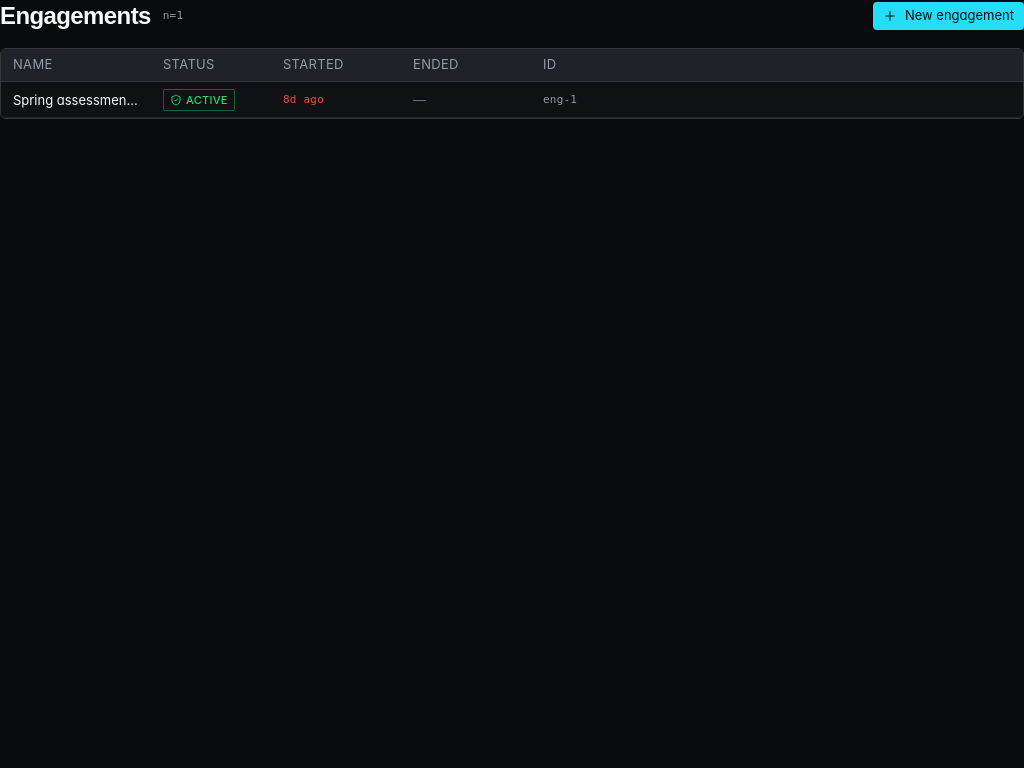
Scenario: EngagementsView › opens the create drawer when the New button is clicked
The width and height of the screenshot is (1024, 768).
What coordinates should you click on to do the following:
click the button with aria-label "create engagement"
I would click on:
 (948, 16)
Its box is [873,2,1023,30].
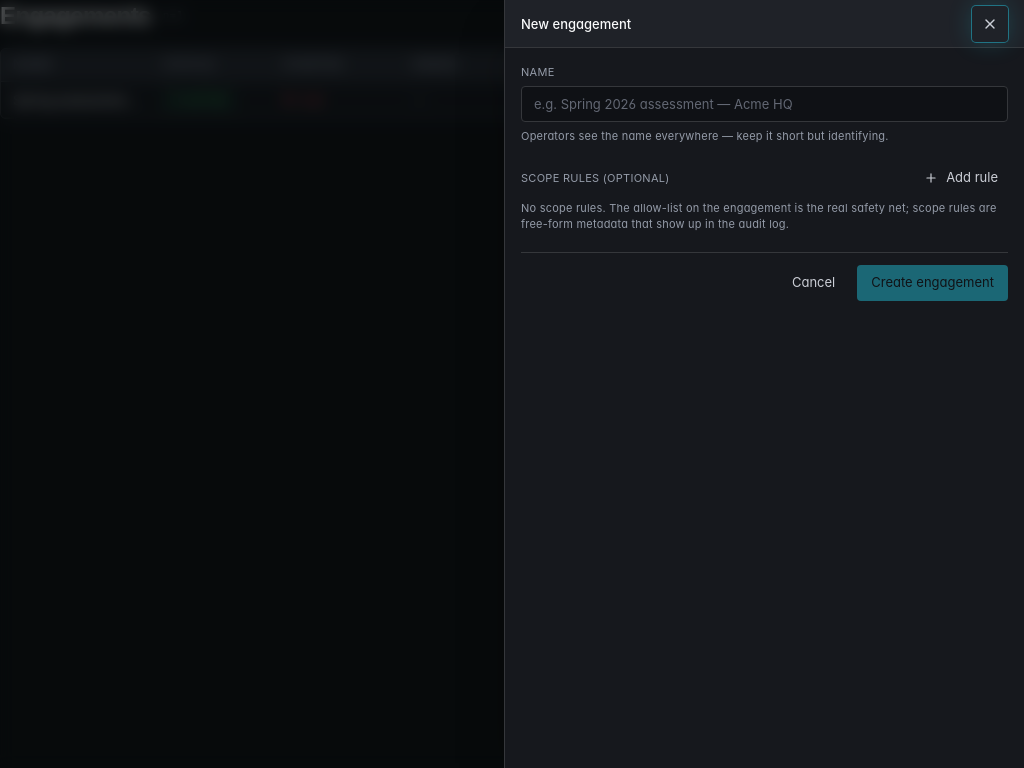
Expected: the form with test id "create-engagement-form" is shown, [521,64,1008,301]
